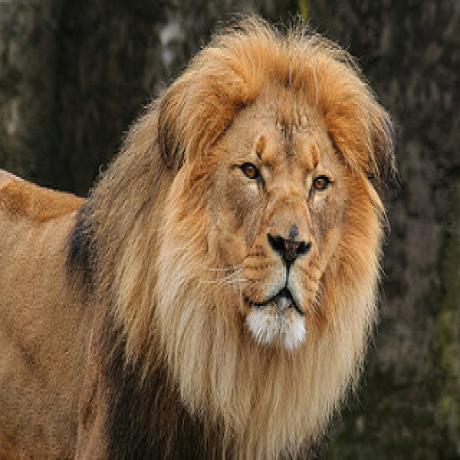Lion: (0, 20, 400, 460)
